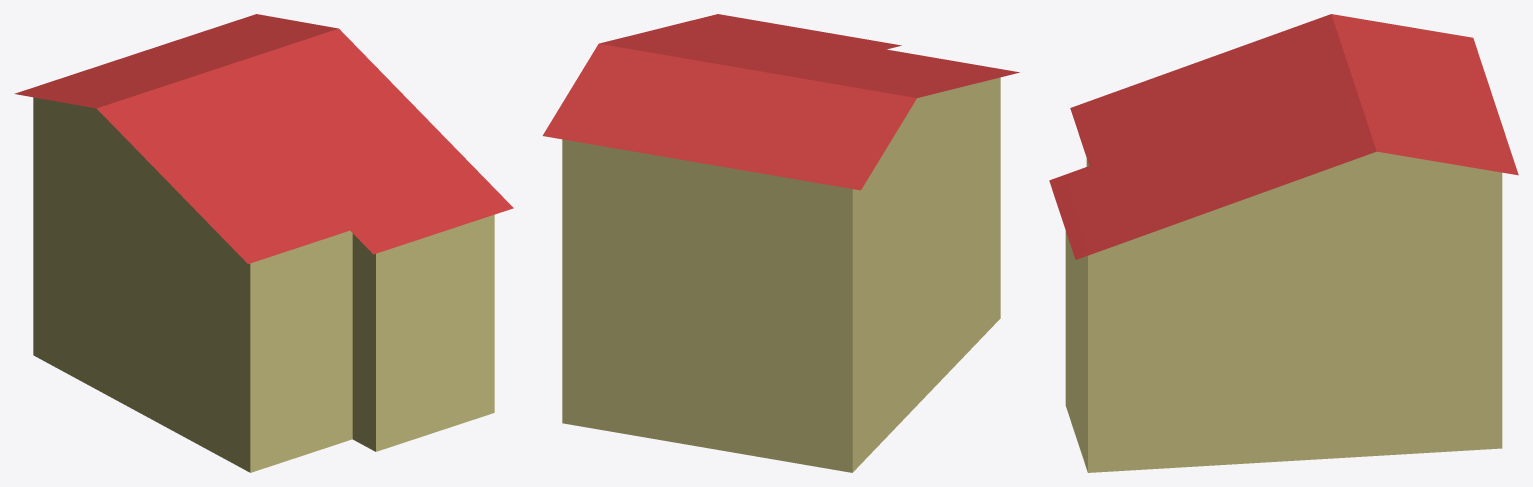
3 views of the same model, side by side, from view 1: azimuth 30°, elevation 25°; view 2: azimuth 150°, elevation 25°; view 3: azimuth 270°, elevation 25° (orthographic). The views are drawn at different scales.
Bounding box in the file's own units: 13.27 × 16.08 × 11.73.
